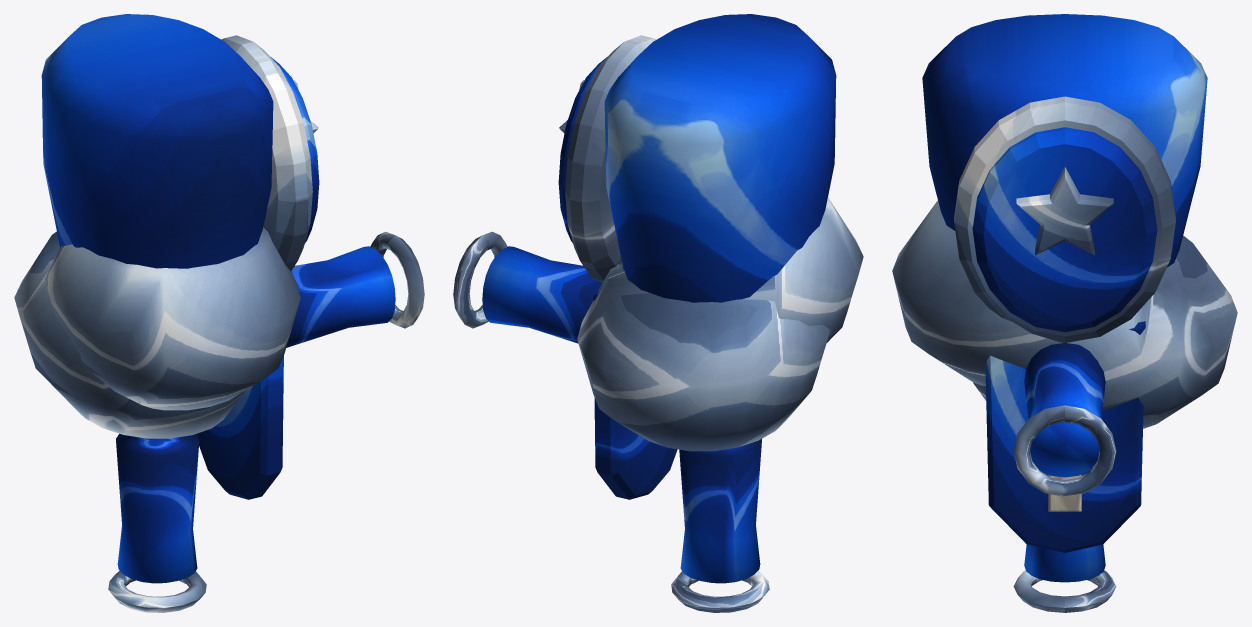
File: cobalt-armor.glb
3 views of the same model, side by side, from view 1: azimuth 30°, elevation 25°; view 2: azimuth 150°, elevation 25°; view 3: azimuth 270°, elevation 25° (orthographic).
Visible parts, largest first — view 1: chest, arm_R, arm_L, hips; view 2: chest, arm_L, arm_R, hips; view 3: chest, arm_R, arm_L, hips.
Boxes of the visible parts, bbox=[...] form: chest: bbox=[41, 14, 319, 270]; arm_R: bbox=[45, 227, 424, 410]; arm_L: bbox=[14, 231, 244, 612]; hips: bbox=[196, 355, 283, 499]; chest: bbox=[558, 14, 836, 302]; arm_L: bbox=[577, 264, 830, 612]; arm_R: bbox=[453, 197, 863, 343]; hips: bbox=[593, 292, 677, 499]; chest: bbox=[922, 14, 1207, 342]; arm_R: bbox=[892, 201, 1116, 496]; arm_L: bbox=[973, 235, 1237, 612]; hips: bbox=[985, 321, 1145, 552].
Bounding box in the file's own units: 0.4656 × 0.6807 × 0.39.
3 materials, 3 textured.
